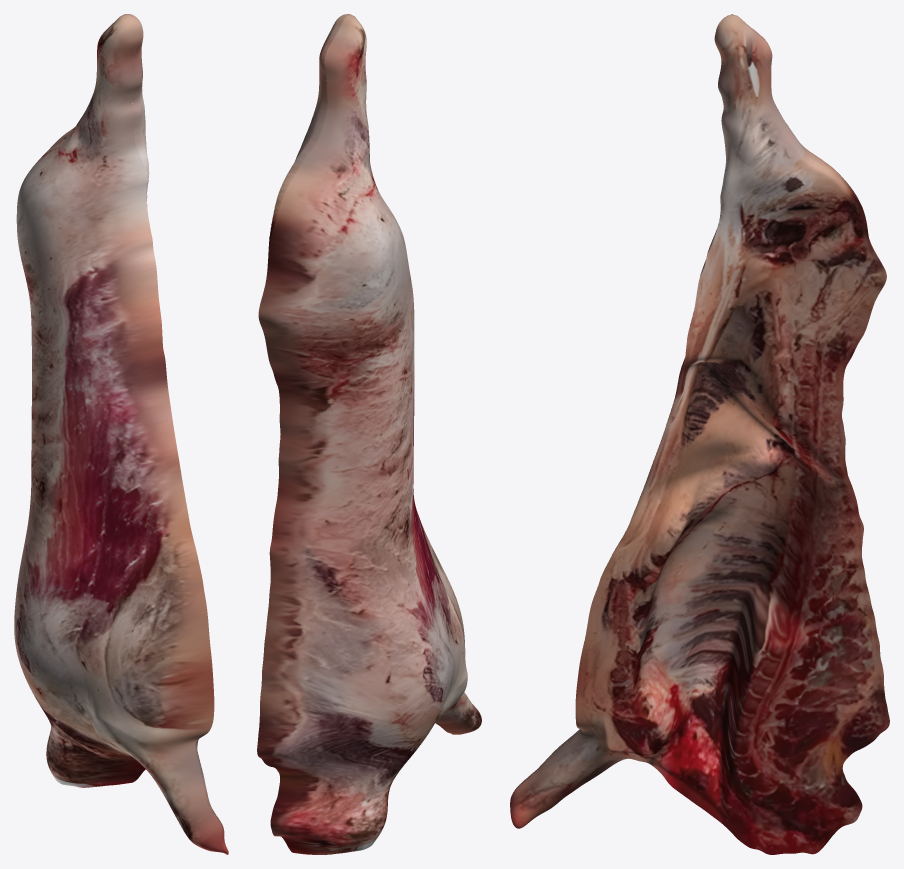
The model's file is demi_carcasse_boeuf_v26.glb.
3 views of the same model, side by side, from view 1: azimuth 30°, elevation 25°; view 2: azimuth 150°, elevation 25°; view 3: azimuth 270°, elevation 25° (orthographic). The views are drawn at different scales.
Visible parts, largest first — view 1: face_exterieure, face_de_fente; view 2: face_exterieure, face_de_fente; view 3: face_de_fente, face_exterieure.
Part boxes in pixels (x1,y1,x2,y2): face_exterieure: (14,14,228,854); face_de_fente: (126,14,228,853); face_exterieure: (257,14,481,854); face_de_fente: (268,14,452,734); face_de_fente: (510,15,889,854); face_exterieure: (513,14,882,792).
Size of the model in its own units: 0.4164 by 2.5 by 1.03.
Materials: 2 (2 with a texture image).
